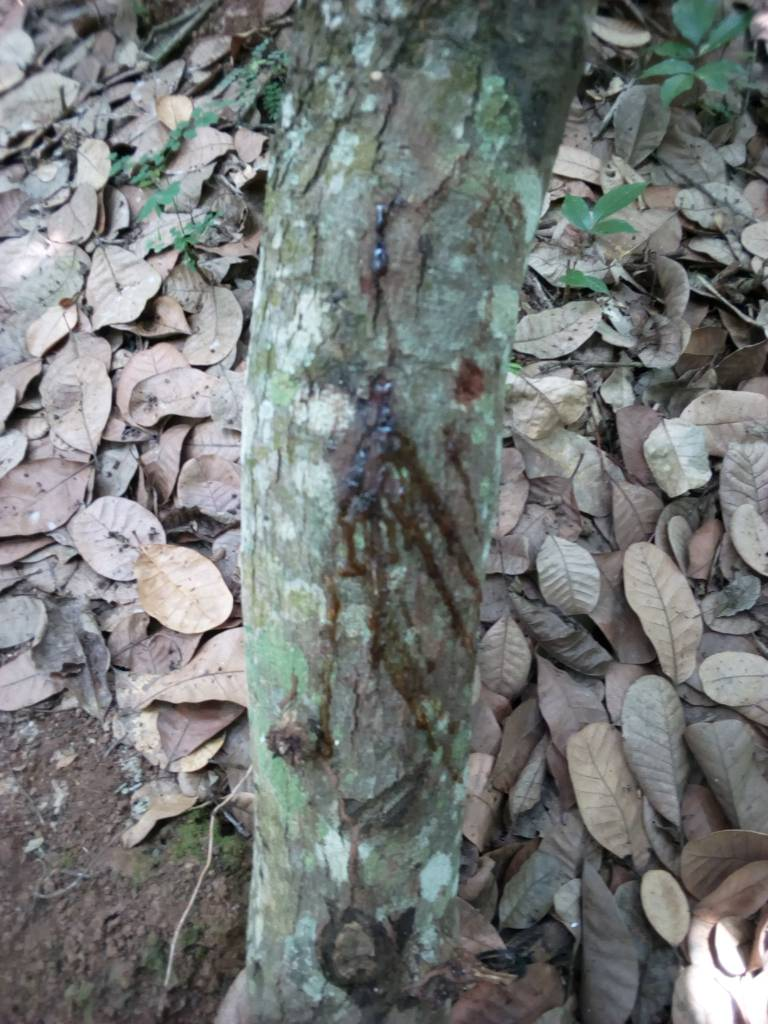Mecocorynus longiceps: (311, 366, 511, 750)
